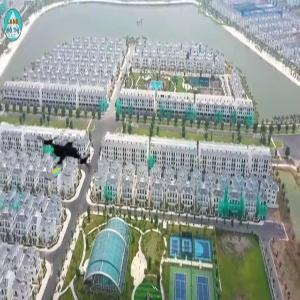drone: (31, 125, 95, 189)
